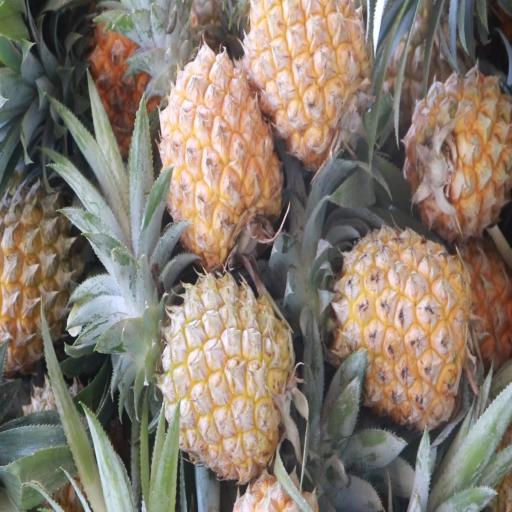------------------------------: (0, 178, 80, 362)
Pineapple - v8 v1: (160, 276, 292, 478), (160, 51, 284, 263), (338, 228, 468, 425), (246, 0, 369, 153), (409, 72, 512, 236)
